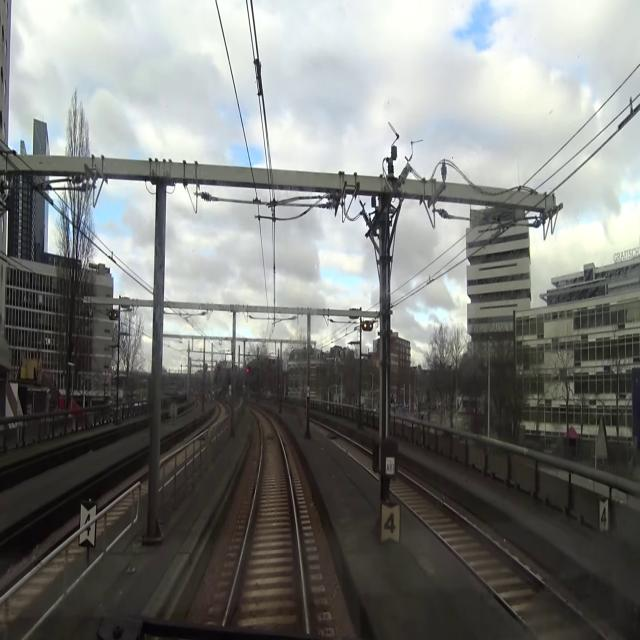rail-track: (390, 475, 599, 639), (228, 414, 303, 628), (332, 434, 371, 467)
